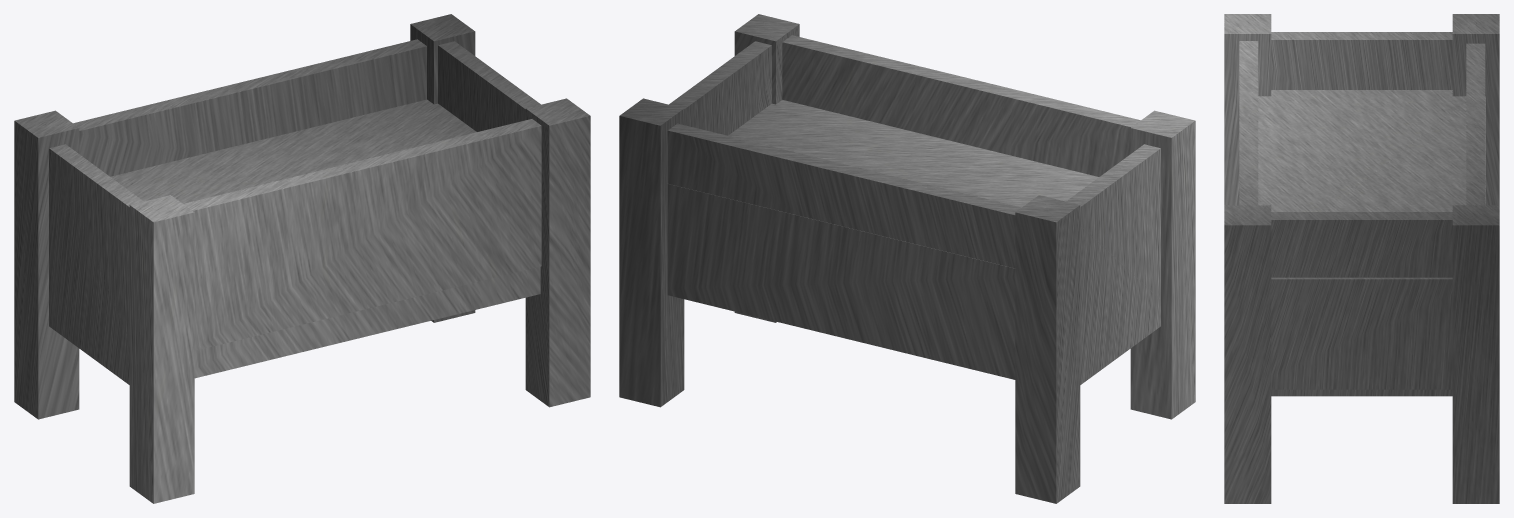
Rendered from airhockeytable2.obj.
3 renders of one model, left to right at view 1: azimuth 30°, elevation 25°; view 2: azimuth 150°, elevation 25°; view 3: azimuth 270°, elevation 25°, orthographic.
Visible parts, largest first — view 1: table; view 2: table; view 3: table.
Boxes of the visible parts, x1=… form: table: x1=14, y1=14, x2=590, y2=503; table: x1=619, y1=14, x2=1195, y2=503; table: x1=1224, y1=14, x2=1499, y2=503.
Size of the model in its own units: 15.15 by 9.33 by 8.35.
1 material, 1 textured.
